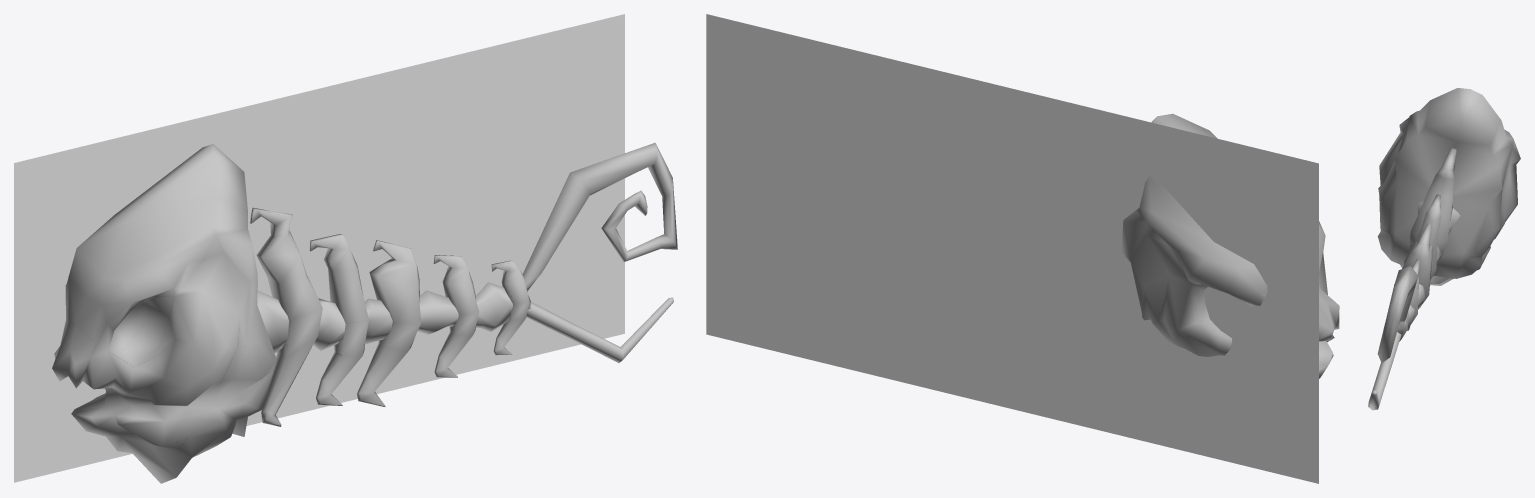
Rendered from skeleton.glb.
3 renders of one model, left to right at view 1: azimuth 30°, elevation 25°; view 2: azimuth 150°, elevation 25°; view 3: azimuth 270°, elevation 25°, orthographic. The views are drawn at different scales.
Visible parts, largest first — view 1: mesh_id1, node_id30; view 2: mesh_id1, node_id30; view 3: node_id30.
Boxes of the visible parts, <box> form: mesh_id1: <box>14,14,624,482</box>; node_id30: <box>52,142,677,483</box>; mesh_id1: <box>706,14,1318,483</box>; node_id30: <box>1122,113,1339,378</box>; node_id30: <box>1368,88,1520,410</box>.
Size of the model in its own units: 1.45 by 0.725 by 0.4134.
Materials: 2 (2 with a texture image).
